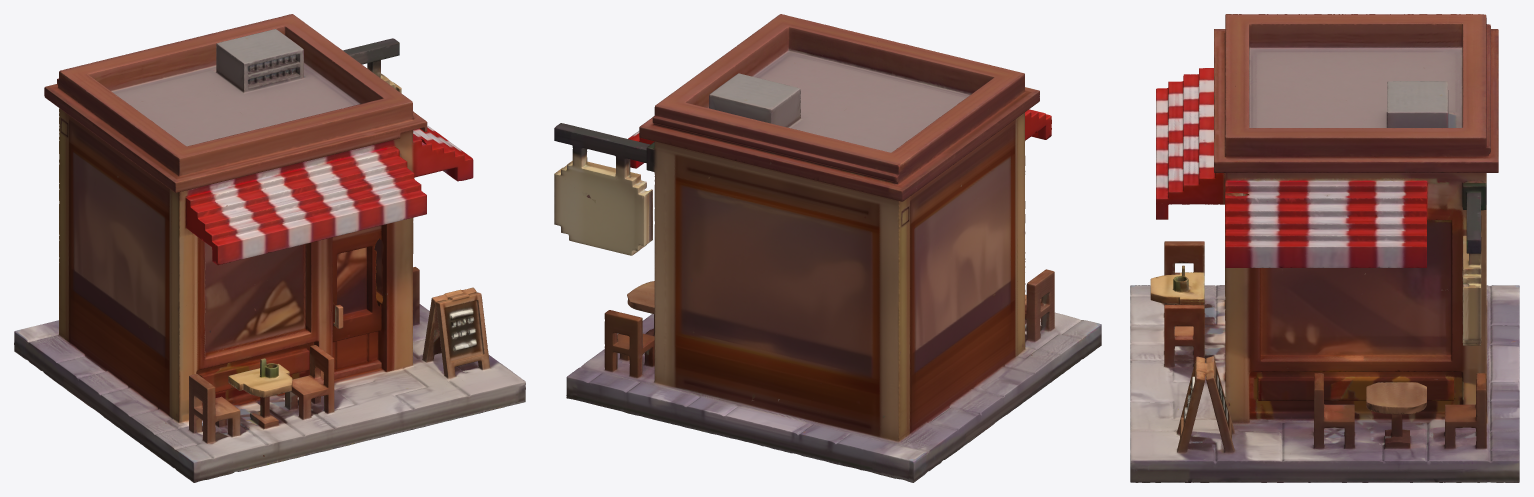
Rendered from cozy_corner_cafe.glb.
3 views of the same model, side by side, from view 1: azimuth 30°, elevation 25°; view 2: azimuth 150°, elevation 25°; view 3: azimuth 270°, elevation 25° (orthographic). The views are drawn at different scales.
Size of the model in its own units: 1.9 by 1.46 by 1.63.
1 material, 1 textured.
